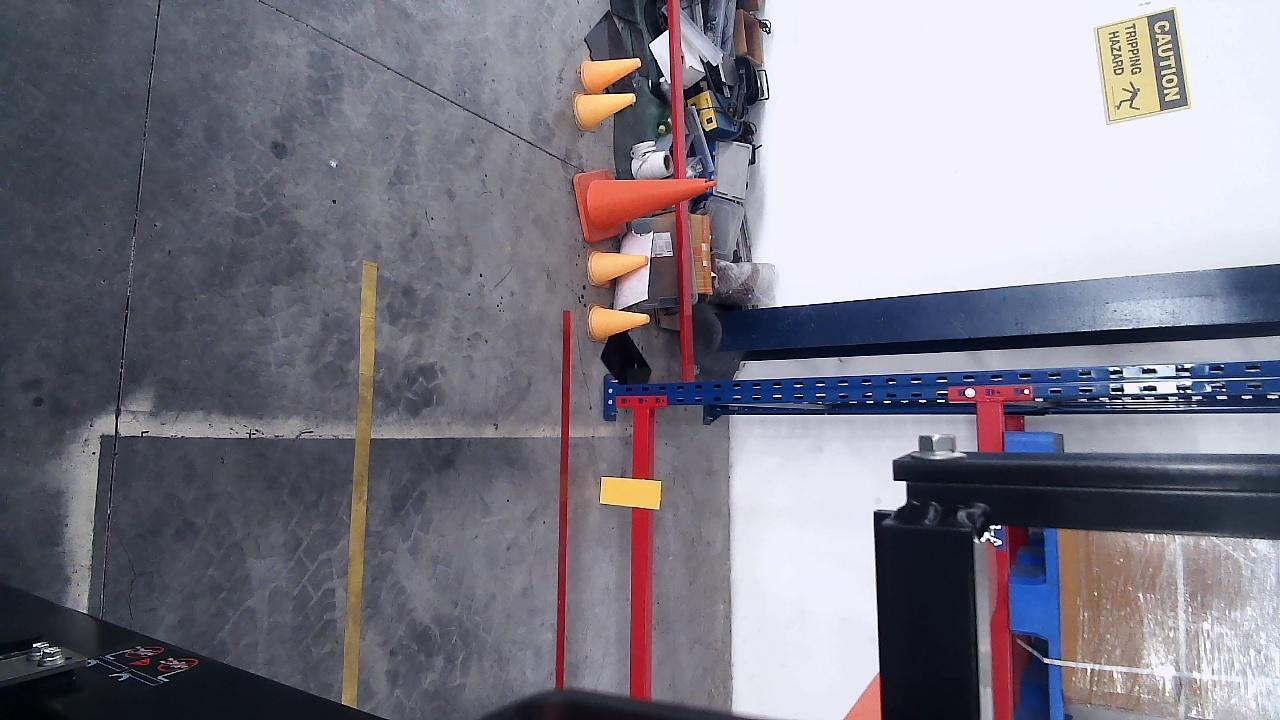red_line: (554, 312, 574, 685)
yellow_line: (342, 262, 377, 712)
